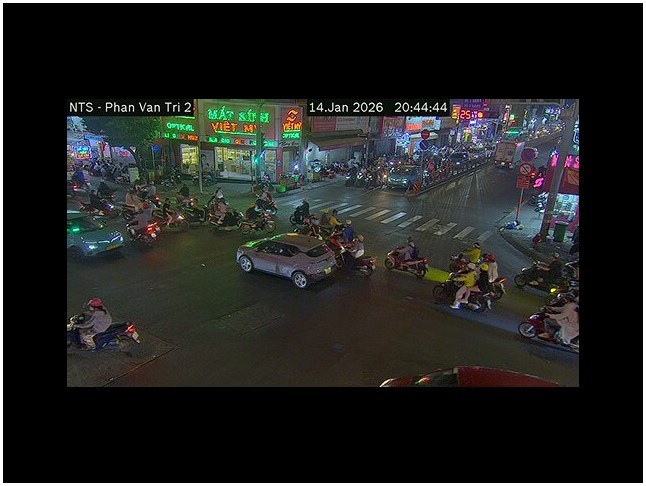car: (236, 231, 339, 289), (379, 364, 563, 387), (67, 207, 126, 263)
motorbike: (385, 244, 430, 279)
